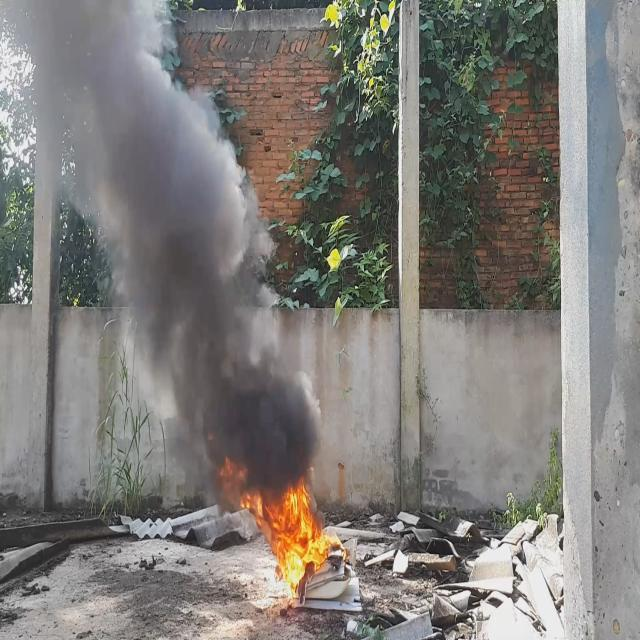Fire: (240, 476, 339, 596)
Smoke: (0, 0, 324, 498)
